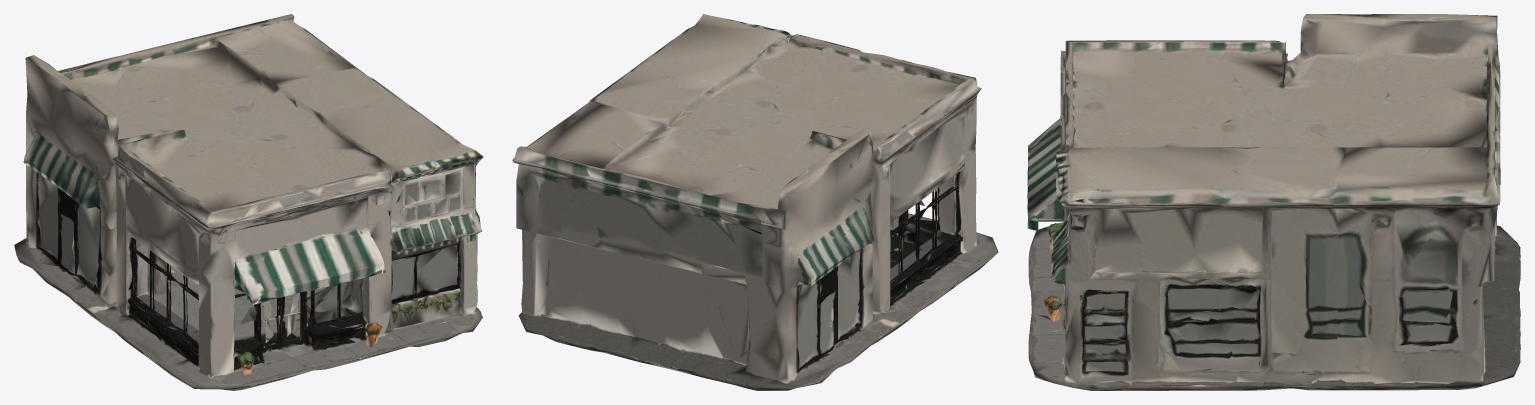
The model's file is grocery-storefront-lite.glb.
3 renders of one model, left to right at view 1: azimuth 30°, elevation 25°; view 2: azimuth 150°, elevation 25°; view 3: azimuth 270°, elevation 25°, orthographic. The views are drawn at different scales.
Size of the model in its own units: 1.53 by 0.948 by 1.9.
Materials: 1 (1 with a texture image).
